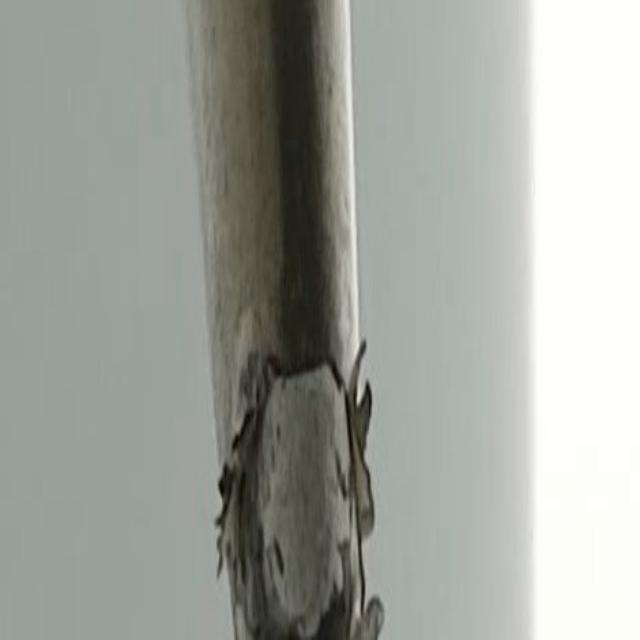Coating_defects: (193, 341, 397, 640)
